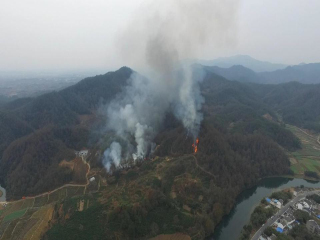smoke: (89, 3, 232, 174)
